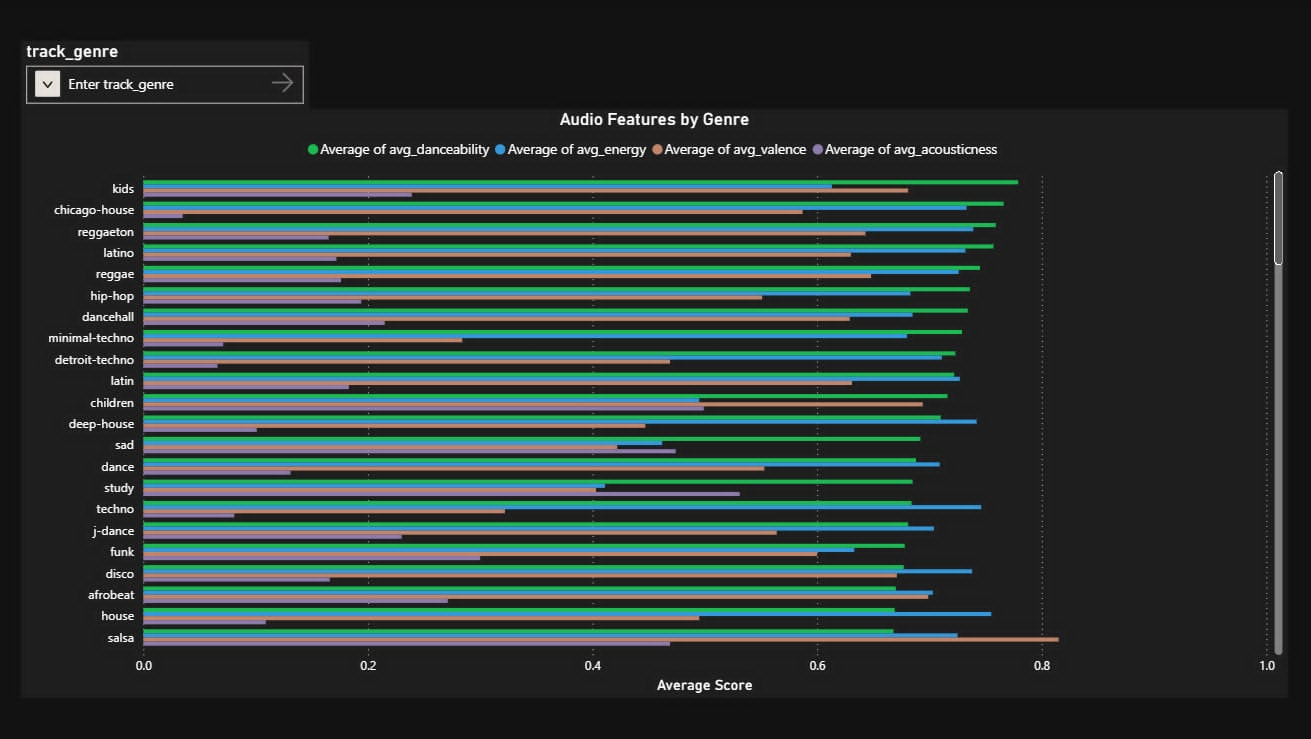

What the dashboard file says about the page in this screenshot:
{"tool":"powerbi","page":{"name":"Genre Audio DNA","canvas":[1280,720],"ordinal":3},"visuals":[{"type":"clusteredBarChart","title":"Audio Features by Genre","fields":{"Category":["genre_audio_dna.track_genre"],"Y":["Avg(genre_audio_dna.avg_danceability)","Avg(genre_audio_dna.avg_energy)","Avg(genre_audio_dna.avg_valence)","Avg(genre_audio_dna.avg_acousticness)"]},"box":[22.4,106.1,1232.3,573.3],"z":0},{"type":"textSlicer","fields":{"Values":["genre_audio_dna.track_genre"]},"box":[22.4,39.9,280.3,66.2],"z":1000}]}

Visuals, with their boxes on the page's 1280x720 design canvas (x1, y1, x2, y2). These are canvas units, not pixel positions in the 1311x739 screenshot, which may show the page scaled, cropped or inside an application window:
"Audio Features by Genre" clusteredBarChart: crop(22, 106, 1255, 679)
textSlicer - genre_audio_dna.track_genre: crop(22, 40, 303, 106)
